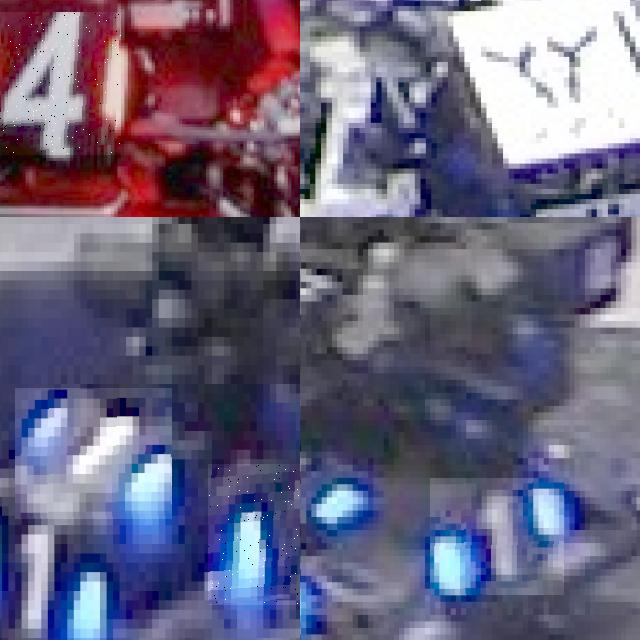B1: (15, 388, 172, 520), (430, 478, 564, 595), (0, 506, 106, 640), (207, 464, 300, 605), (300, 425, 352, 530)
R4: (0, 12, 121, 155)
